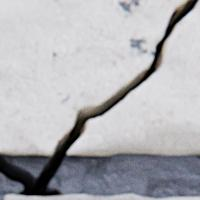brick: (3, 195, 151, 199), (164, 198, 199, 199)
broken_brick: (0, 0, 188, 156), (66, 1, 199, 156)
crack: (0, 0, 199, 197)
